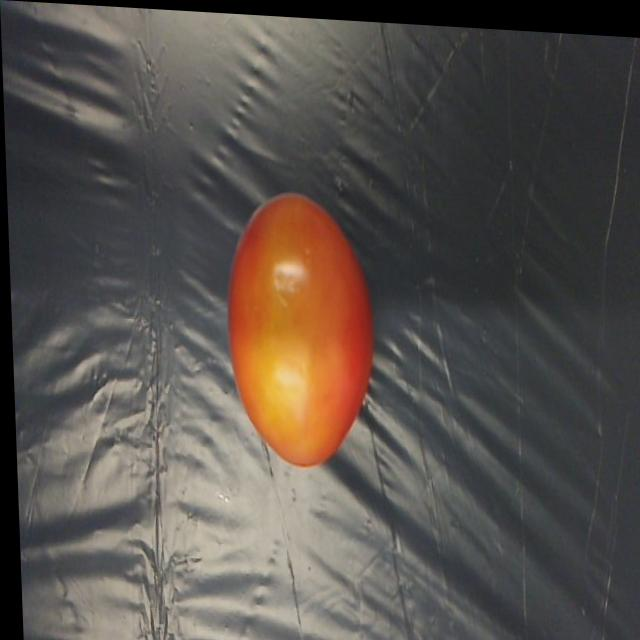sari: (200, 146, 387, 499)
